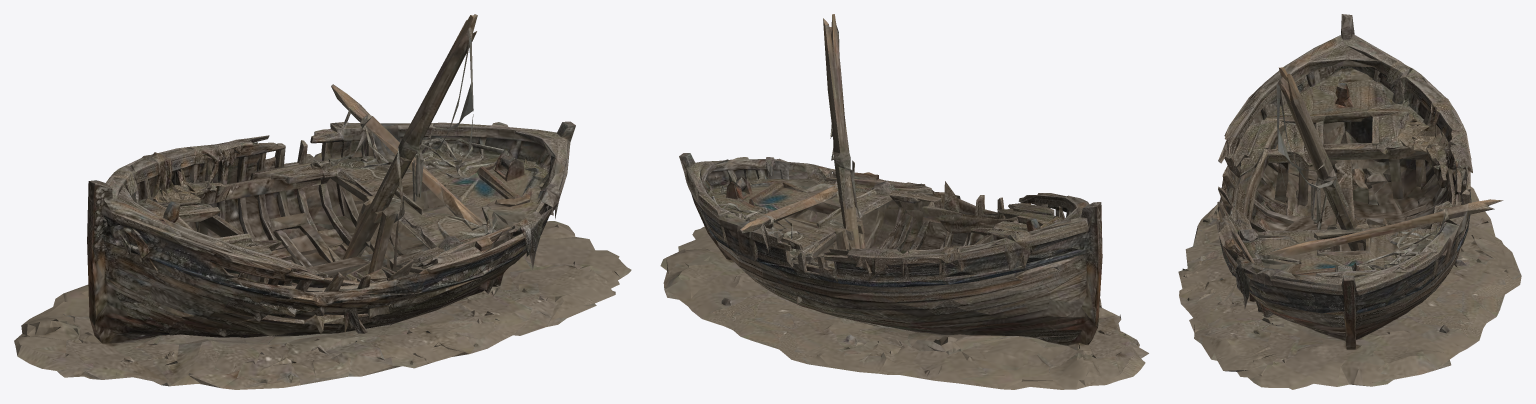
The model's file is wreck.glb.
3 views of the same model, side by side, from view 1: azimuth 30°, elevation 25°; view 2: azimuth 150°, elevation 25°; view 3: azimuth 270°, elevation 25° (orthographic). The views are drawn at different scales.
Visible parts, largest first — view 1: Mesh_0; view 2: Mesh_0; view 3: Mesh_0.
Boxes of the visible parts, x1,y1,x2,y2 form: Mesh_0: (14, 14, 631, 389); Mesh_0: (660, 14, 1148, 389); Mesh_0: (1178, 14, 1521, 389).
Bounding box in the file's own units: 6.5 × 3.17 × 3.86.
Materials: 1 (1 with a texture image).
